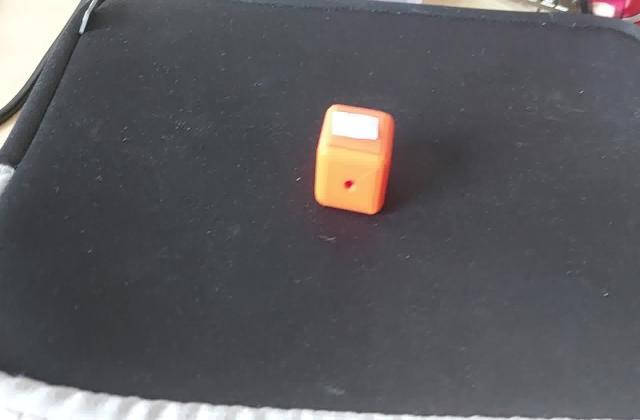cube: (314, 99, 402, 219)
white: (330, 112, 386, 145)
